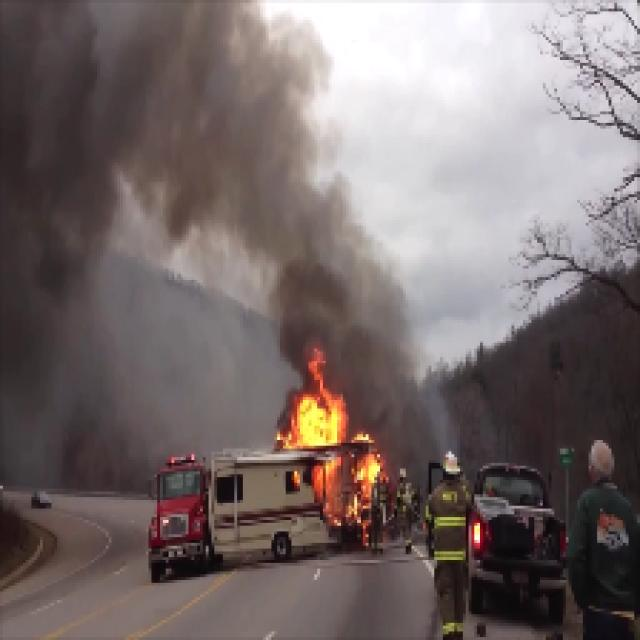smoke: (0, 4, 267, 254), (271, 146, 392, 340)
